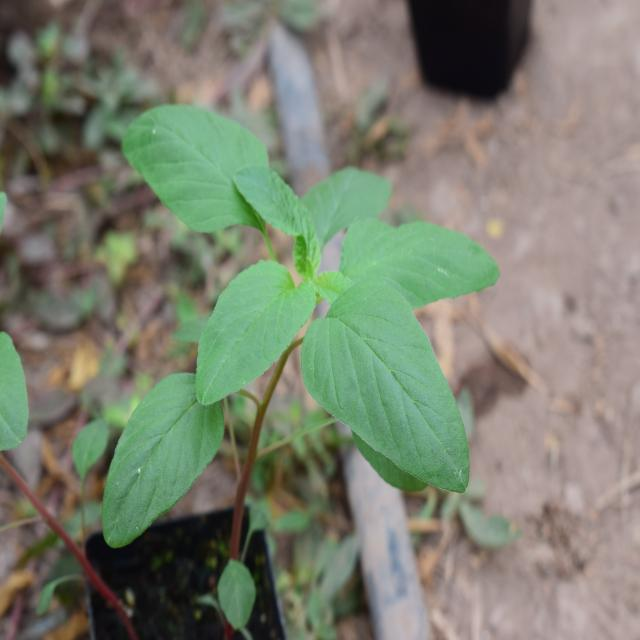pigweed: (88, 91, 494, 505)
